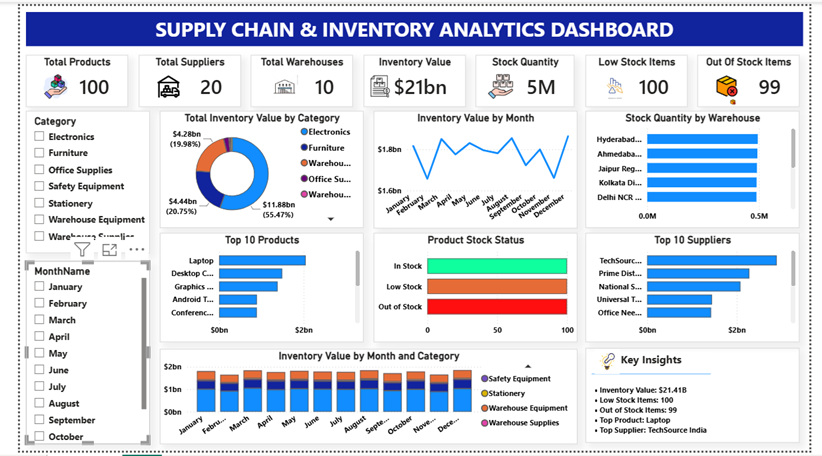

The page's visual inventory and layout, read from the dashboard file:
{"tool":"powerbi","page":{"name":"Page 1","canvas":[1280,720],"ordinal":0},"visuals":[{"type":"cardVisual","title":"Total Products","fields":{"Data":["DimDate.Total Products"]},"box":[9.7,79.3,165.2,84.2],"z":0},{"type":"textbox","box":[77.7,0,1185.3,55.1],"z":1000},{"type":"textbox","box":[10,10,1259,55.1],"z":2000},{"type":"cardVisual","title":"Total Suppliers","fields":{"Data":["DimDate.Total Suppliers"]},"box":[191.9,79.3,165.2,84.2],"z":3000},{"type":"cardVisual","title":"Total Warehouses","fields":{"Data":["DimDate.Total Warehouses"]},"box":[374,79.3,165.2,84.2],"z":4000},{"type":"cardVisual","title":"Inventory Value","fields":{"Data":["DimDate.Total Inventory Value"]},"box":[556.2,79.3,165.2,84.2],"z":5000},{"type":"cardVisual","title":"Stock Quantity","fields":{"Data":["DimDate.Total Stock Quantity"]},"box":[738.4,79.3,160.3,84.2],"z":6000},{"type":"cardVisual","title":"Low Stock Items","fields":{"Data":["DimDate.Current stock"]},"box":[915.7,79.3,165.2,84.2],"z":7000},{"type":"cardVisual","title":"Out Of Stock Items","fields":{"Data":["DimDate.Out of Stock Items"]},"box":[1097.8,79.3,165.2,84.2],"z":8000},{"type":"donutChart","fields":{"Y":["DimDate.Total Inventory Value"],"Category":["DimProduct.Category"]},"box":[226.7,170,330.3,189.4],"z":9000},{"type":"lineChart","title":"Inventory Value by Month","fields":{"Y":["DimDate.Total Inventory Value"],"Category":["DimDate.MonthName"]},"box":[573.2,170,330,190],"z":10000},{"type":"clusteredBarChart","title":" Stock Quantity by Warehouse","fields":{"Category":["DimWarehouse.WarehouseName"],"Y":["DimDate.Total Stock Quantity"]},"box":[916.5,170,346.5,189.4],"z":11000},{"type":"clusteredBarChart","title":"Top 10 Products","fields":{"Category":["DimProduct.ProductName"],"Y":["DimDate.Total Inventory Value"]},"box":[226.7,367.6,330.3,176.5],"z":12000},{"type":"clusteredBarChart","title":"Product Stock Status","fields":{"Category":["FactInventory.Stock Status"],"Y":["CountNonNull(DimProduct.ProductID)"]},"box":[573.2,367.6,330.3,176.5],"z":13000},{"type":"clusteredBarChart","title":"Top 10 Suppliers","fields":{"Category":["DimSupplier.SupplierName"],"Y":["DimDate.Total Inventory Value"]},"box":[916.5,367.6,346.5,176.5],"z":14000},{"type":"columnChart","title":"Inventory Value by Month and Category","fields":{"Category":["DimDate.MonthName"],"Y":["DimDate.Total Inventory Value"],"Series":["DimProduct.Category"]},"box":[226.7,555.4,676.8,153.8],"z":15000},{"type":"slicer","fields":{"Values":["DimProduct.Category"]},"box":[9.7,170,200.8,229.9],"z":16000},{"type":"slicer","fields":{"Values":["DimDate.MonthName"]},"box":[9.7,412.9,200.8,296.3],"z":17000},{"type":"tableEx","title":"Key Insights","fields":{"Values":["DimDate.Key isights"]},"box":[916,554,346.5,153],"z":19000},{"type":"image","box":[22.7,110.1,69.6,40.5],"z":20000},{"type":"image","box":[1110.8,110.1,69.6,40.5],"z":23001},{"type":"image","box":[929.4,110.1,69.6,40.5],"z":23002},{"type":"image","box":[749.7,110.1,58.3,40.5],"z":23003},{"type":"image","box":[565.1,110.1,37.2,40.5],"z":23004},{"type":"image","box":[387,110.1,84.2,40.5],"z":23005},{"type":"image","box":[205.6,110.1,69.6,40.5],"z":23006},{"type":"image","box":[1120.5,150.6,69.6,9.7],"z":23007},{"type":"image","box":[916.5,555.4,69.6,40.5],"z":23008}]}

Visuals, with their boxes in screenshot pixels (x1, y1, x2, y2), scaled from the page's 1280x720 canvas onto the 822x456 screenshot:
"Total Products" cardVisual: select_region(6, 50, 112, 104)
textbox: select_region(50, 0, 811, 35)
textbox: select_region(6, 6, 815, 41)
"Total Suppliers" cardVisual: select_region(123, 50, 229, 104)
"Total Warehouses" cardVisual: select_region(240, 50, 346, 104)
"Inventory Value" cardVisual: select_region(357, 50, 463, 104)
"Stock Quantity" cardVisual: select_region(474, 50, 577, 104)
"Low Stock Items" cardVisual: select_region(588, 50, 694, 104)
"Out Of Stock Items" cardVisual: select_region(705, 50, 811, 104)
donutChart - DimDate.Total Inventory Value x DimProduct.Category: select_region(146, 108, 358, 228)
"Inventory Value by Month" lineChart: select_region(368, 108, 580, 228)
" Stock Quantity by Warehouse" clusteredBarChart: select_region(589, 108, 811, 228)
"Top 10 Products" clusteredBarChart: select_region(146, 233, 358, 345)
"Product Stock Status" clusteredBarChart: select_region(368, 233, 580, 345)
"Top 10 Suppliers" clusteredBarChart: select_region(589, 233, 811, 345)
"Inventory Value by Month and Category" columnChart: select_region(146, 352, 580, 449)
slicer - DimProduct.Category: select_region(6, 108, 135, 253)
slicer - DimDate.MonthName: select_region(6, 262, 135, 449)
"Key Insights" tableEx: select_region(588, 351, 811, 448)
image: select_region(15, 70, 59, 95)
image: select_region(713, 70, 758, 95)
image: select_region(597, 70, 642, 95)
image: select_region(481, 70, 519, 95)
image: select_region(363, 70, 387, 95)
image: select_region(249, 70, 303, 95)
image: select_region(132, 70, 177, 95)
image: select_region(720, 95, 764, 102)
image: select_region(589, 352, 633, 377)
